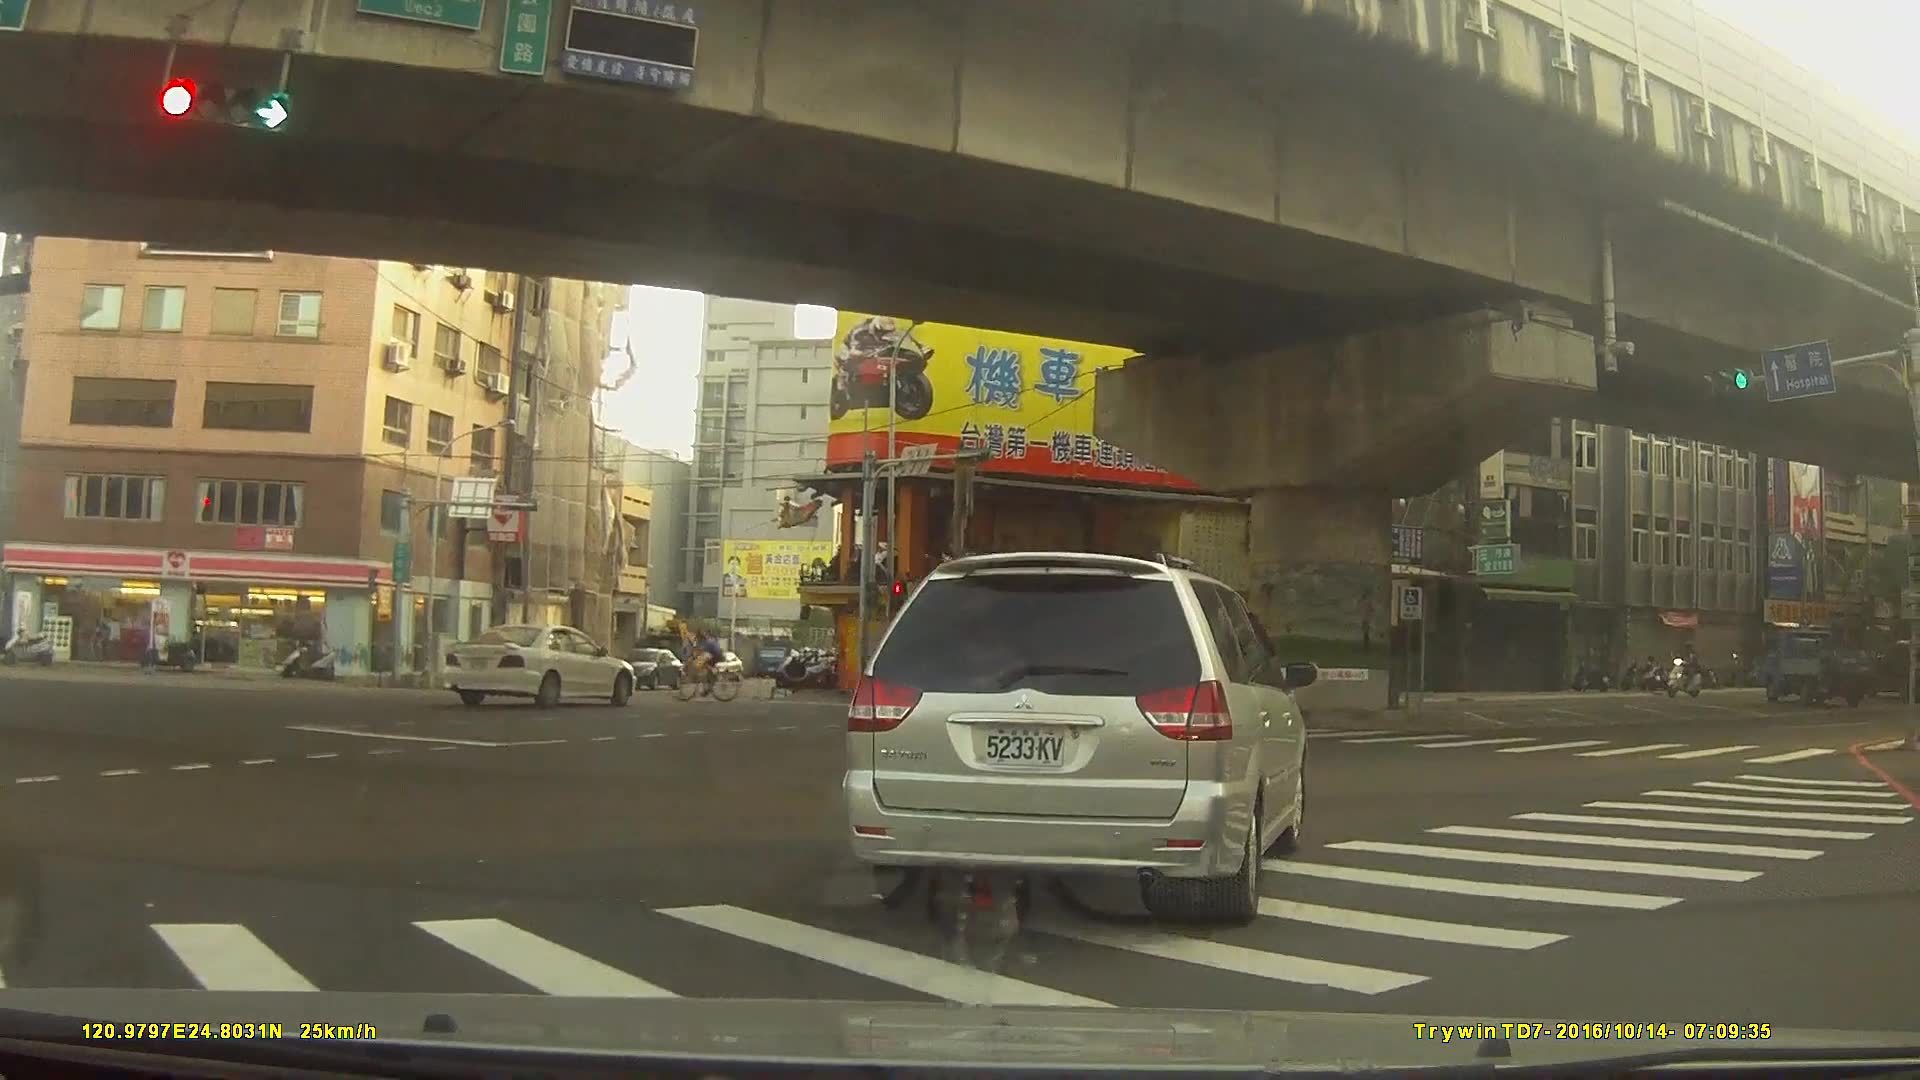rider: (669, 629, 741, 703), (1667, 643, 1707, 697)
vehicle: (843, 548, 1310, 926), (444, 620, 636, 707), (1757, 627, 1878, 708), (616, 647, 685, 689), (704, 649, 744, 680)
